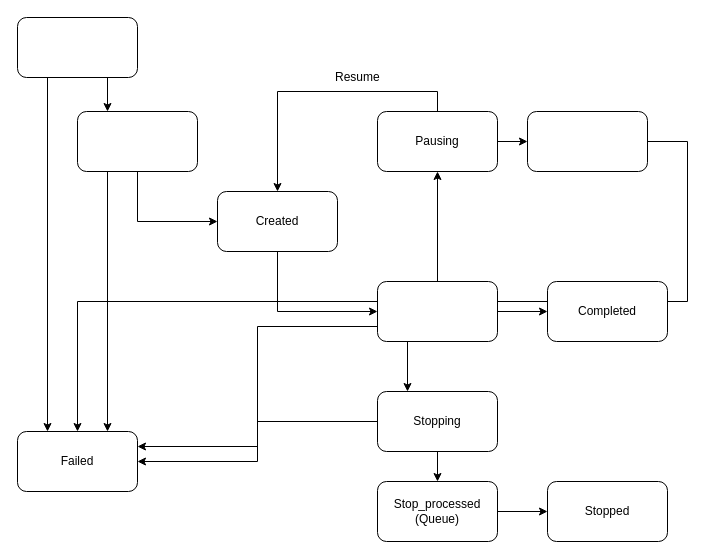
Some shapes in this 713 by 559 pixel diagram are drawn without their labels. The centre of each missing label's shape, as x and y in pixels:
"Initialising" goes at [77,47].
"Paused" goes at [587,141].
"Running" goes at [437,311].
"Start_processed (Queue)" goes at [137,141].
